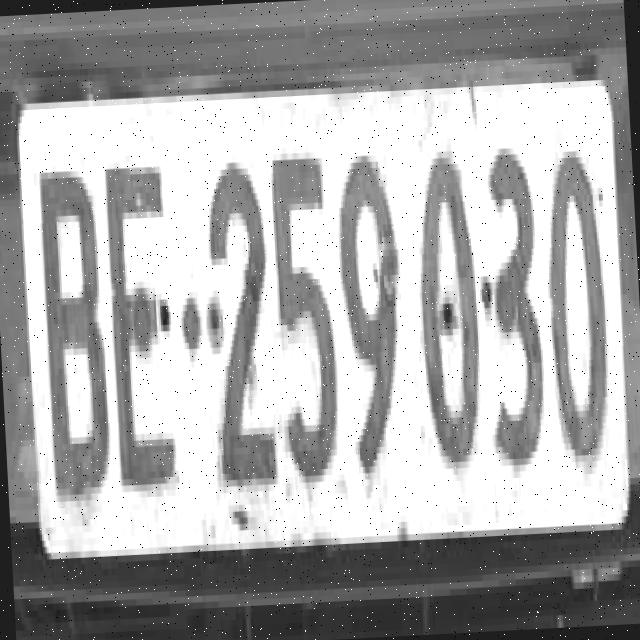Autre: (18, 72, 636, 558)
